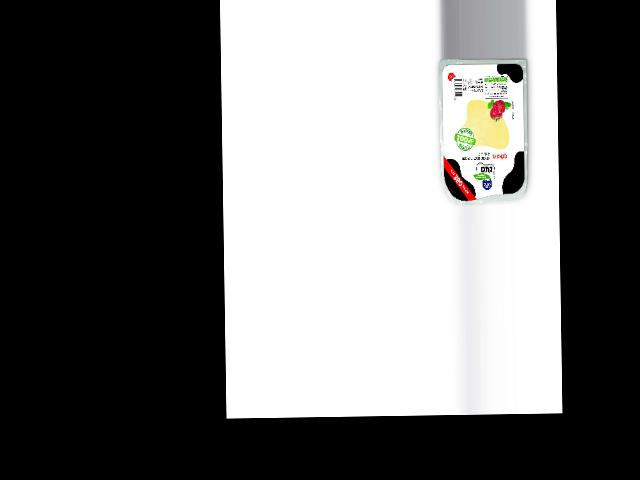cheese: (438, 58, 529, 206)
